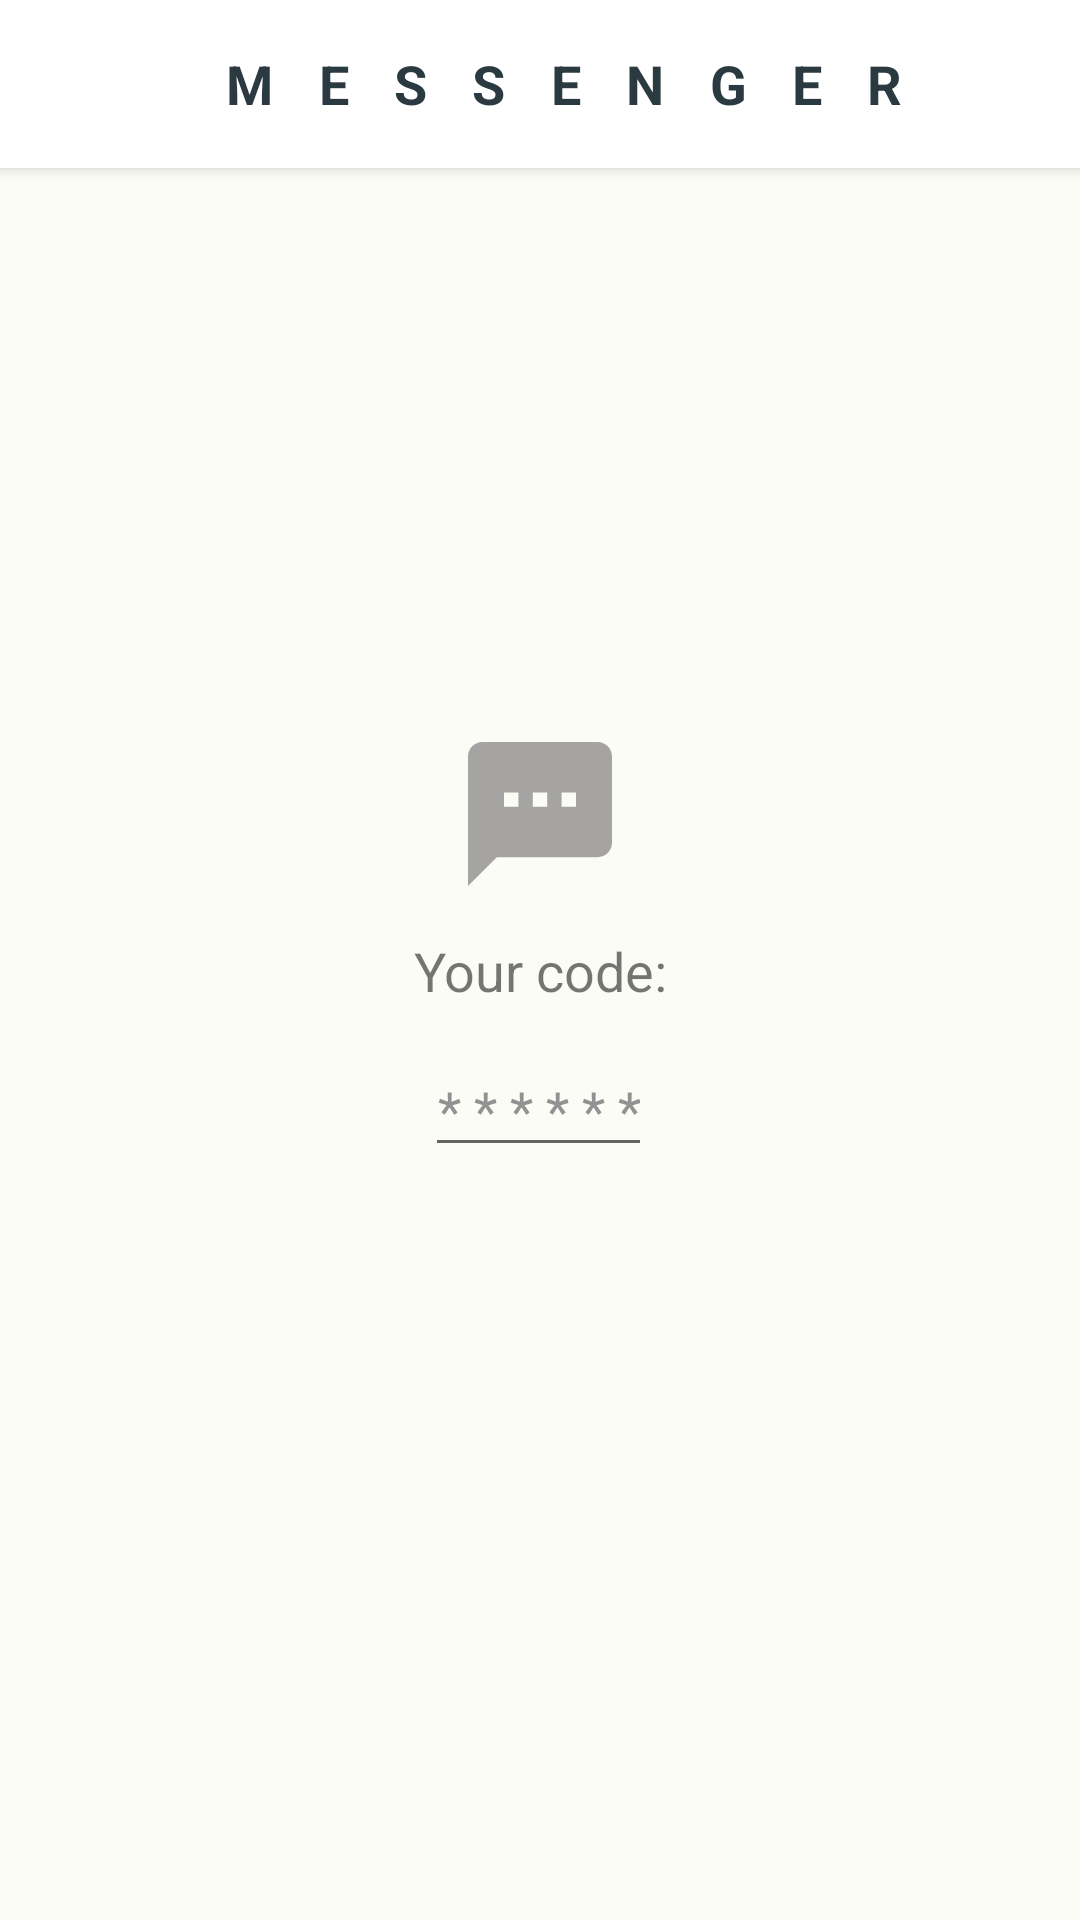

Locate icon controls on the screen. Image size 1080×1920, boxes as (x1, y1, x2, y2).
sms code: (468, 742, 612, 886)
